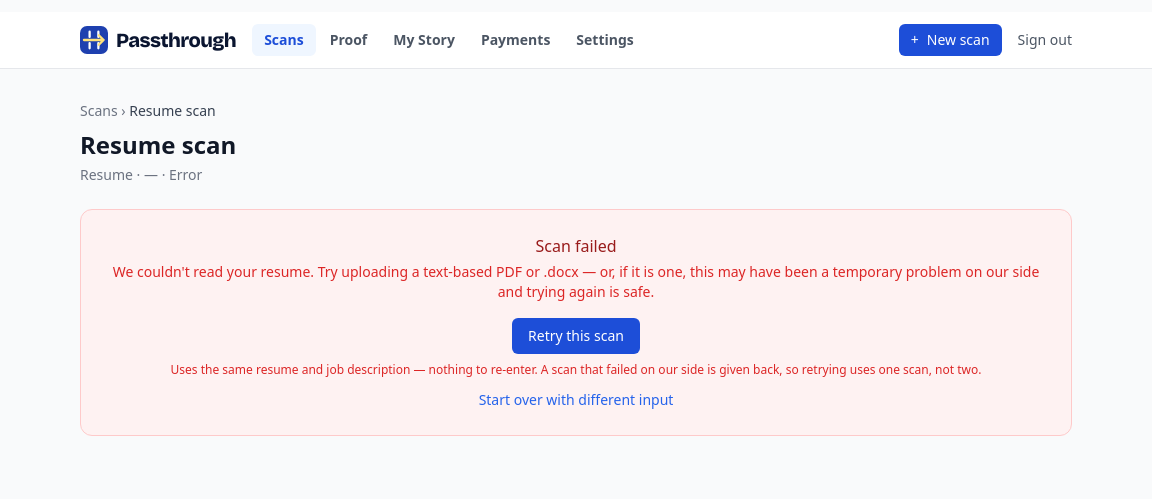
Test: ScanResult — retry a failed scan in place (G1) › a refusal is shown, and the page stays on the failed scan
The width and height of the screenshot is (1152, 499).
Step 1. Click the button "Retry this scan" → (576, 336), box [512,318,640,354]
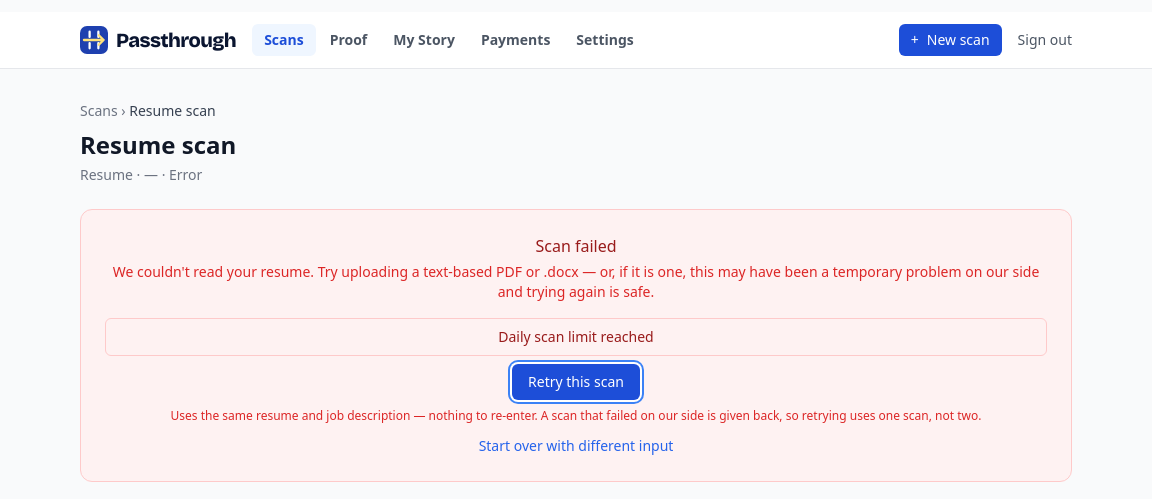
Expected: the button "Retry this scan" is shown, [512,364,640,400]
Now the text "Daily scan limit reached" is shown, box [105,318,1047,356]
